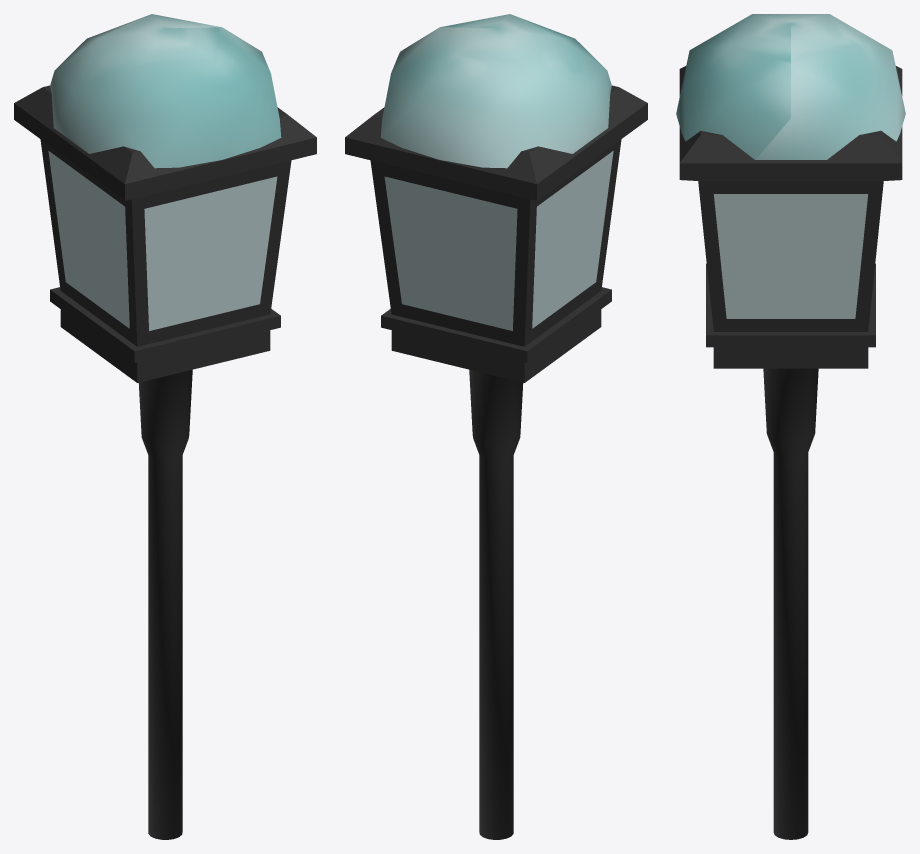
File: LightPost.fbx
3 views of the same model, side by side, from view 1: azimuth 30°, elevation 25°; view 2: azimuth 150°, elevation 25°; view 3: azimuth 270°, elevation 25° (orthographic).
Visible parts, largest first — view 1: LightPost, SnowTop; view 2: LightPost, SnowTop; view 3: LightPost, SnowTop.
Boxes of the visible parts, x1,y1,x2,y2 form: LightPost: (14,85,316,839); SnowTop: (50,14,281,168); LightPost: (345,85,647,839); SnowTop: (380,14,611,168); LightPost: (679,66,902,839); SnowTop: (676,14,905,159).
Bounding box in the file's own units: 2.6 × 2.67 × 10.39.
